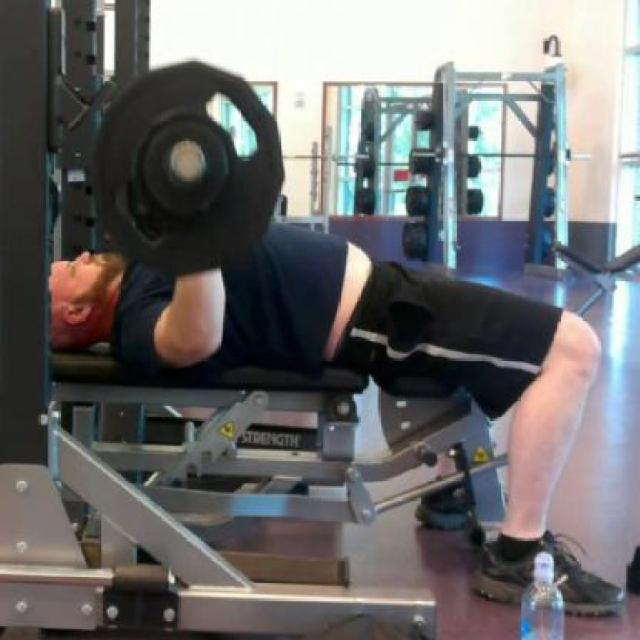barbell: (86, 56, 290, 290)
